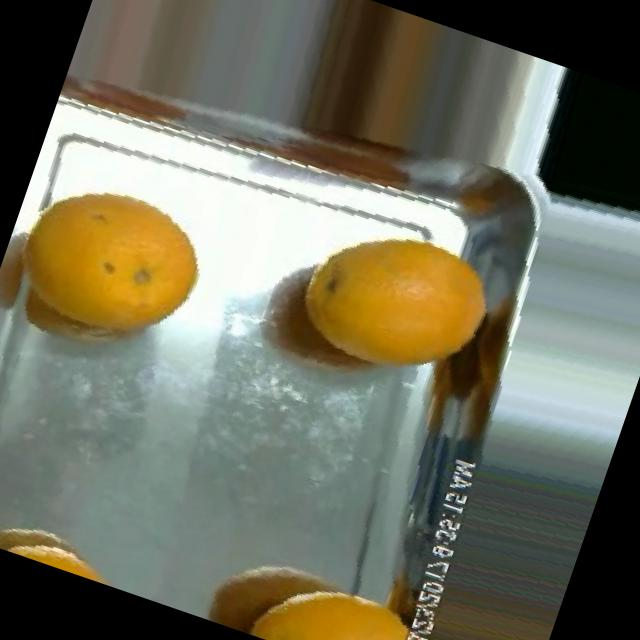Fruit: (261, 194, 522, 426), (0, 155, 235, 403), (501, 59, 640, 252), (239, 553, 430, 640)
